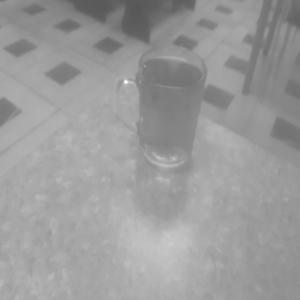tea: (122, 39, 225, 188)
